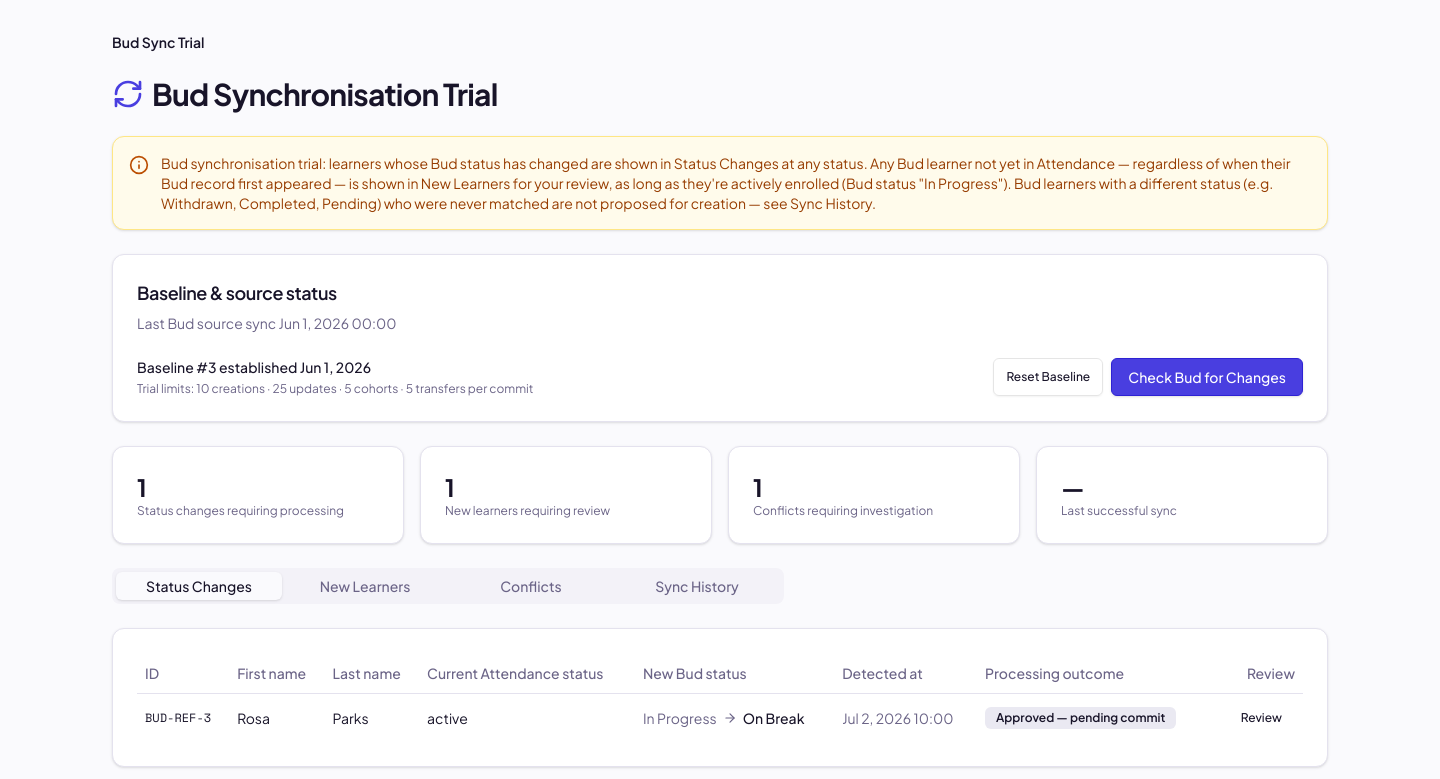
Test case: BudSyncTrialPage › Conflicts tab displays unsafe records with no selection checkboxes
Click the tab "Conflicts" at [531, 586], box top-left (448, 572), bottom-right (614, 600)
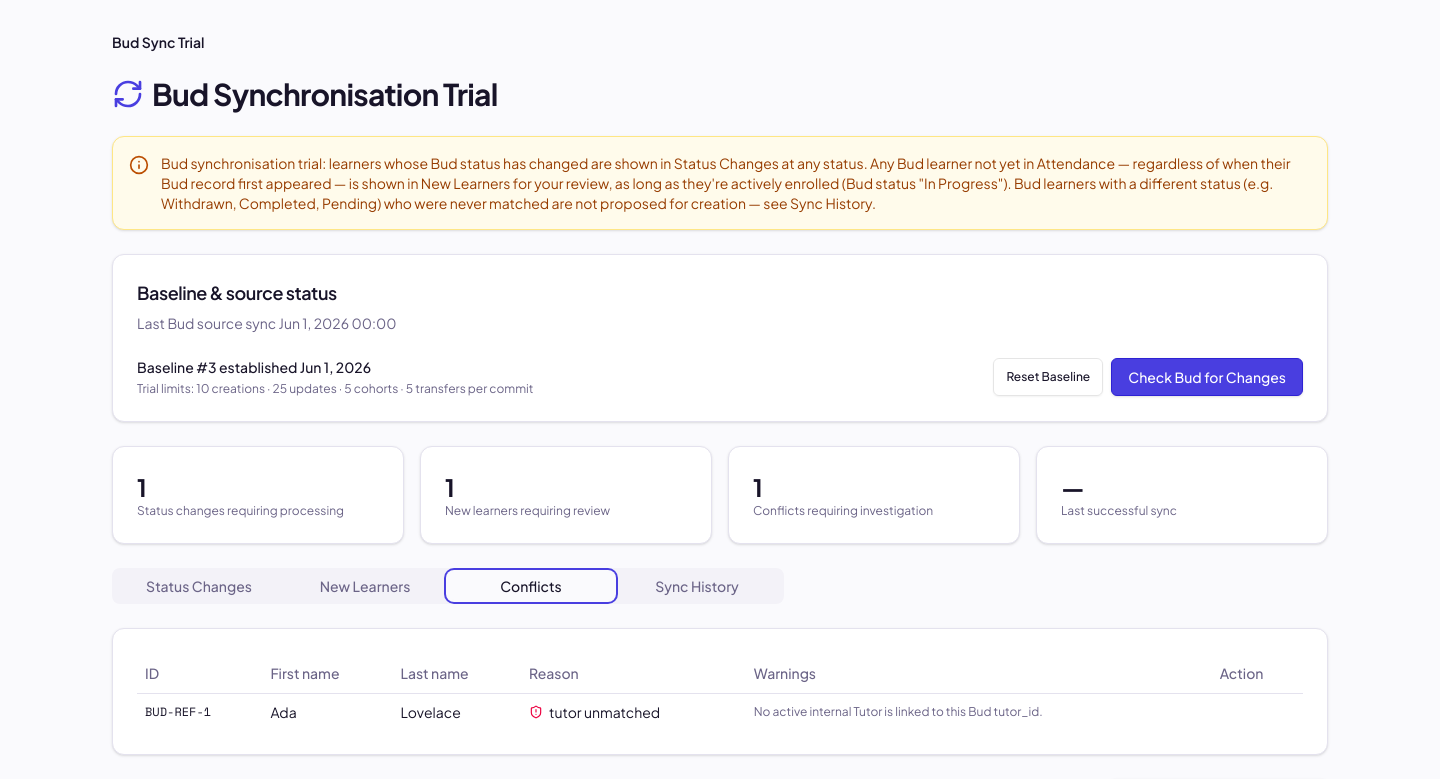
Result: the text "BUD-REF-1" is shown at top-left (137, 693), bottom-right (262, 730)
Result: the text "tutor unmatched" is shown at top-left (521, 694), bottom-right (746, 730)
